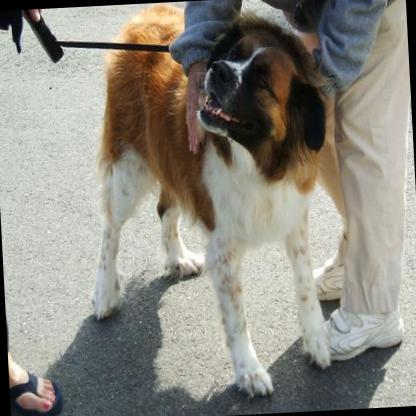Saint_Bernard: (76, 0, 338, 404)
